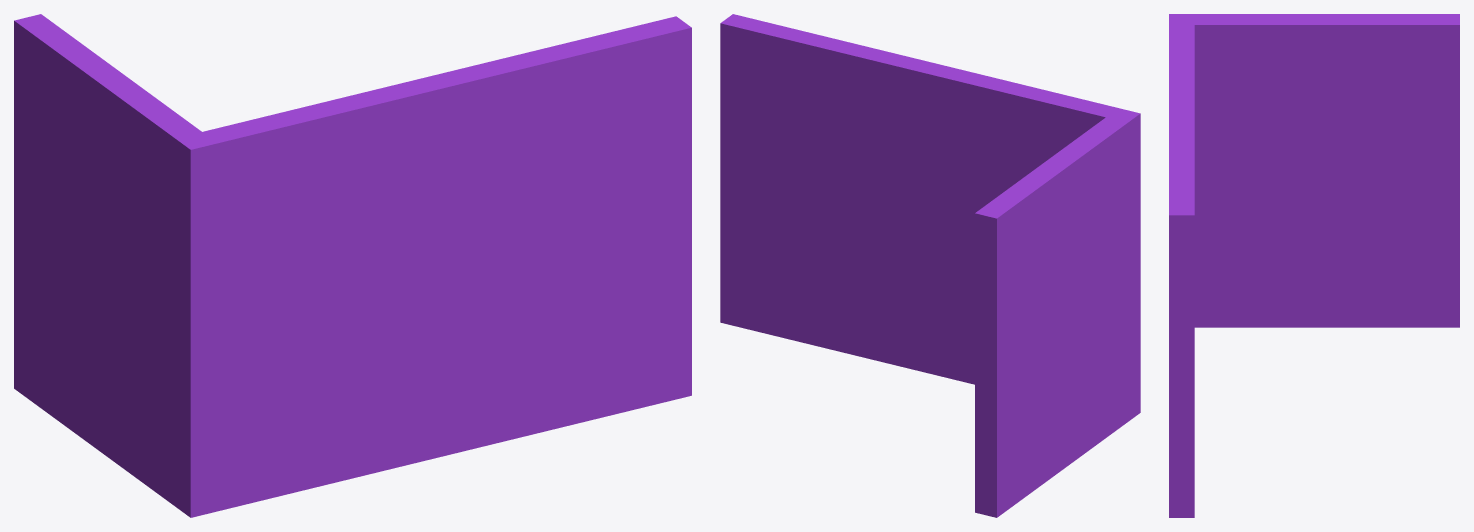
Rendered from Barrier_196.fbx.
The picture shows the model from 3 angles, left to right: view 1: azimuth 30°, elevation 25°; view 2: azimuth 150°, elevation 25°; view 3: azimuth 270°, elevation 25°; orthographic projection. The views are drawn at different scales.
Parts seen in each view (by area): view 1: Barrier_196; view 2: Barrier_196; view 3: Barrier_196.
Boxes of the visible parts, x1,y1,x2,y2 form: Barrier_196: (14, 14, 691, 517); Barrier_196: (720, 14, 1140, 517); Barrier_196: (1169, 14, 1459, 517).
Bounding box in the file's own units: 410 × 288 × 250.
